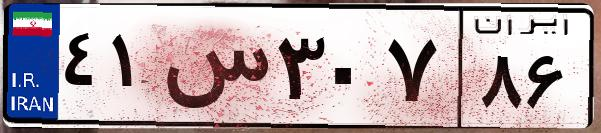0: (330, 28, 385, 110)
1: (110, 28, 158, 98)
3: (270, 28, 330, 110)
4: (57, 26, 110, 100)
6: (525, 38, 570, 115)
7: (385, 28, 445, 110)
8: (475, 38, 525, 113)
س: (158, 20, 270, 120)
